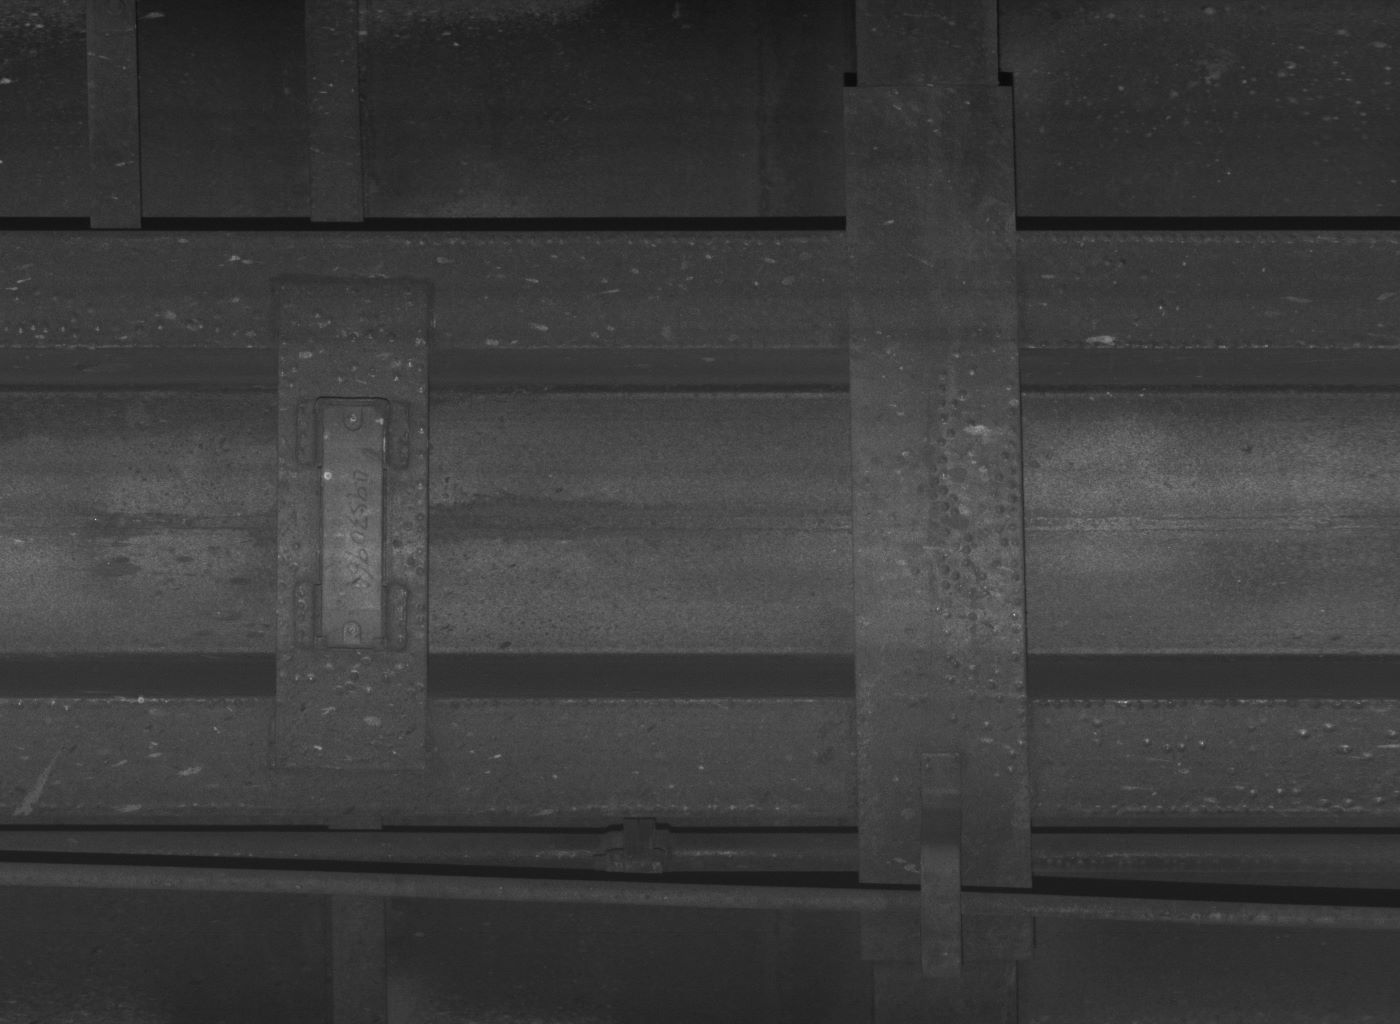normal: (920, 752, 964, 976)
